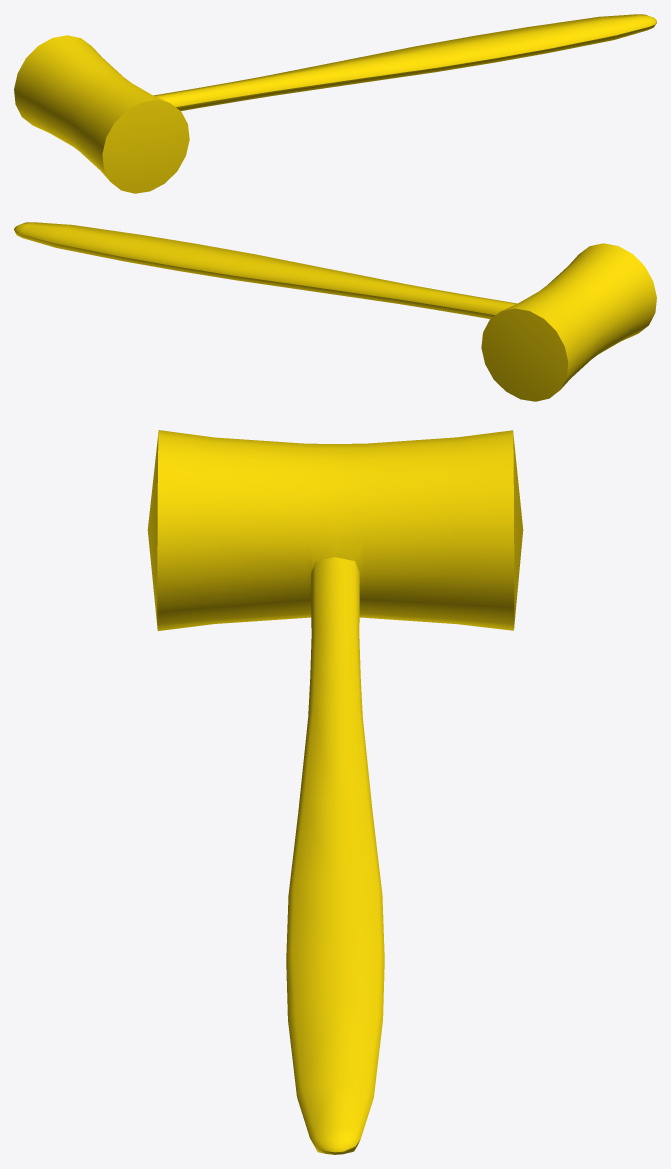
File: SM_Bone_Mallet_4.FBX
The picture shows the model from 3 angles, top to bottom: view 1: azimuth 30°, elevation 25°; view 2: azimuth 150°, elevation 25°; view 3: azimuth 270°, elevation 25°; orthographic projection. The views are drawn at different scales.
Parts seen in each view (by area): view 1: Bone_Mallet_4; view 2: Bone_Mallet_4; view 3: Bone_Mallet_4.
Boxes of the visible parts, x1,y1,x2,y2 form: Bone_Mallet_4: (14, 14, 656, 193); Bone_Mallet_4: (14, 222, 656, 401); Bone_Mallet_4: (147, 430, 523, 1154).
Size of the model in its own units: 21.65 by 3.14 by 5.89.
